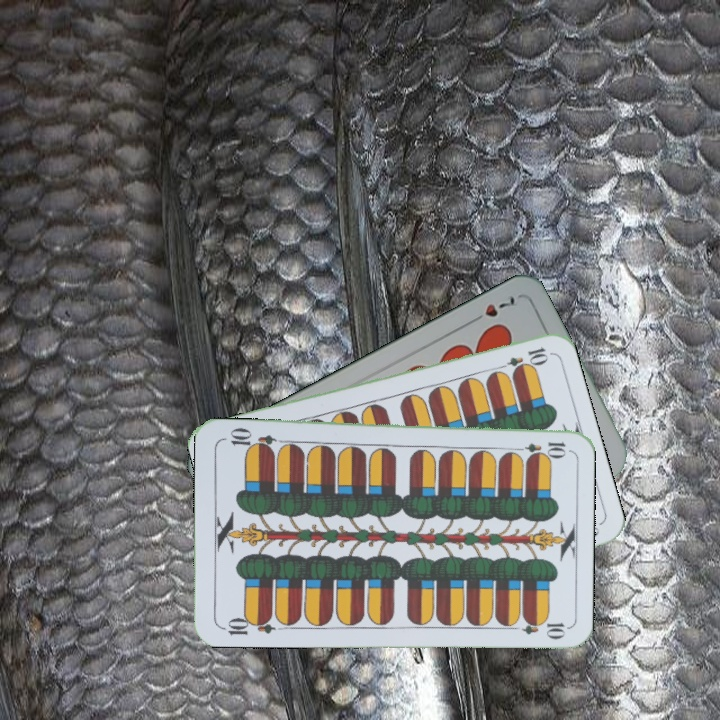E10: (492, 343, 551, 375), (218, 612, 277, 638), (510, 438, 569, 456)
H7: (466, 292, 518, 327)
